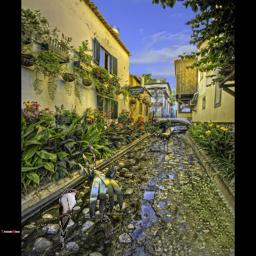Cuckoo: (58, 188, 80, 246)
